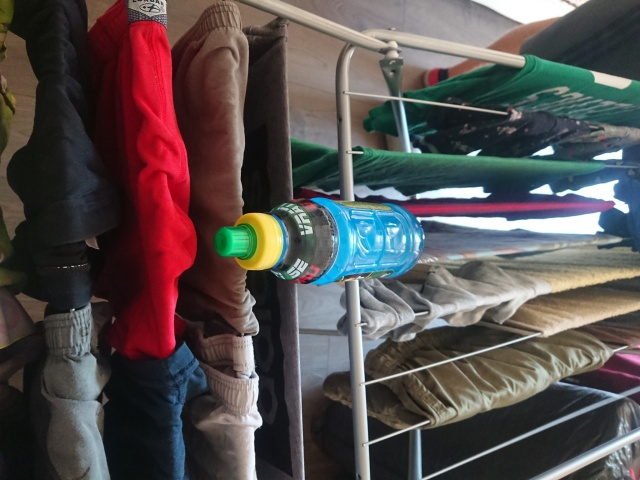Vindi Iso Sport Forest Strawberries 500mL: (212, 194, 427, 289)
